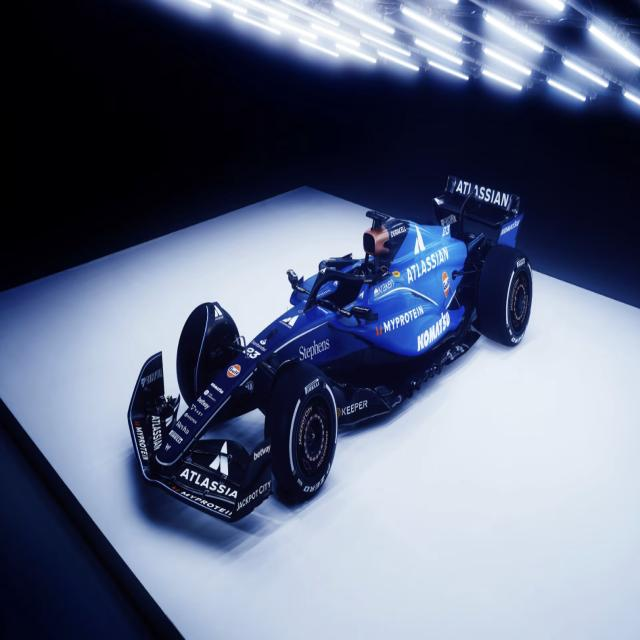Williams: (128, 172, 532, 527)
